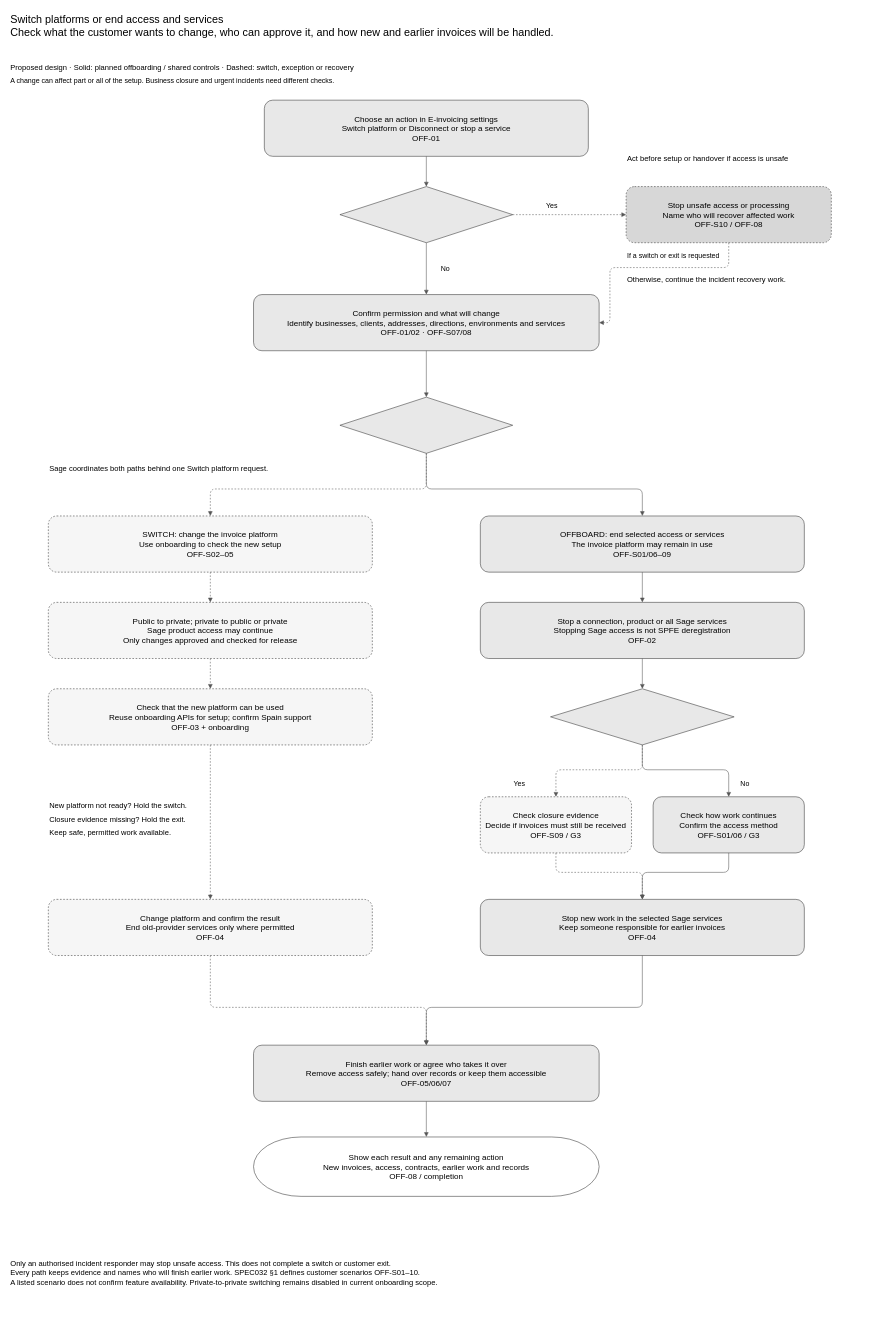
Image size: 889x1317. Some labels were removed from this diagram. The shapes that lost their labels are listed below. From the top down, each one's centre as x and y in pixels, then its label:
[426,214]: Urgent incident? OFF-S10
[426,425]: What changes? Sage coordinates the required steps
[642,716]: Business ceased trading? OFF-S09
